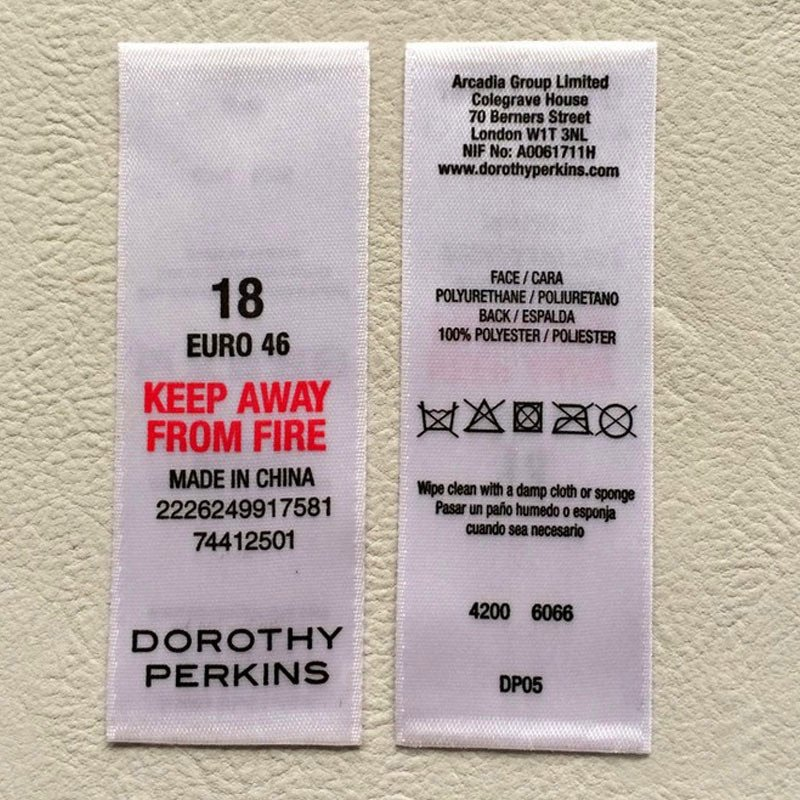do_not_dry_clean: (595, 402, 638, 440)
do_not_iron: (551, 400, 591, 437)
do_not_wash: (417, 399, 460, 438)
